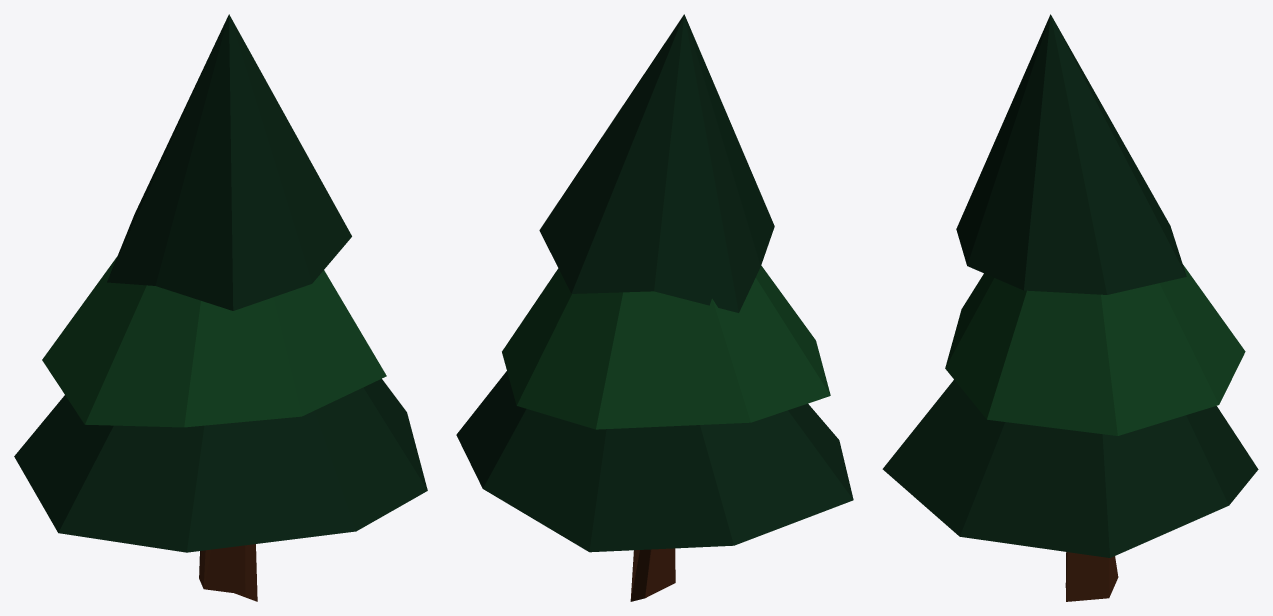
Rendered from world_tree_conifer_m.fbx.
3 renders of one model, left to right at view 1: azimuth 30°, elevation 25°; view 2: azimuth 150°, elevation 25°; view 3: azimuth 270°, elevation 25°, orthographic. The views are drawn at different scales.
Visible parts, largest first — view 1: world_tree_conifer_m; view 2: world_tree_conifer_m; view 3: world_tree_conifer_m.
Boxes of the visible parts, x1,y1,x2,y2 form: world_tree_conifer_m: [14, 14, 427, 601]; world_tree_conifer_m: [456, 14, 853, 601]; world_tree_conifer_m: [882, 14, 1258, 601].
Size of the model in its own units: 1127 by 1694 by 1009.
